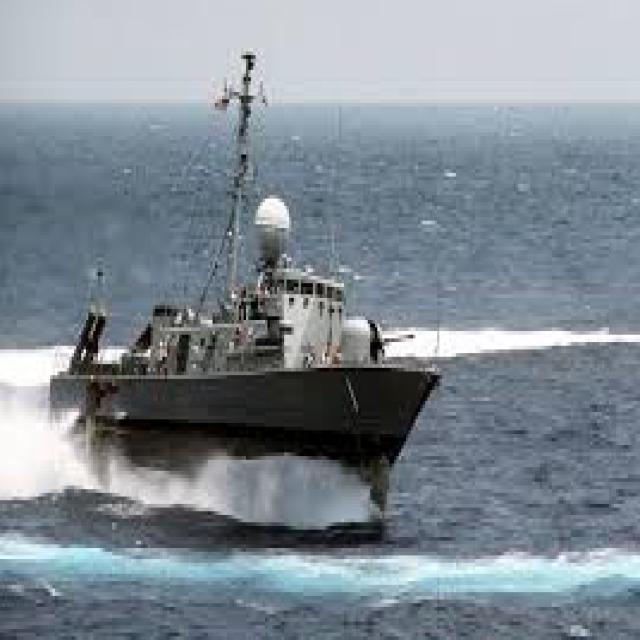navalvessels: (56, 9, 453, 528)
